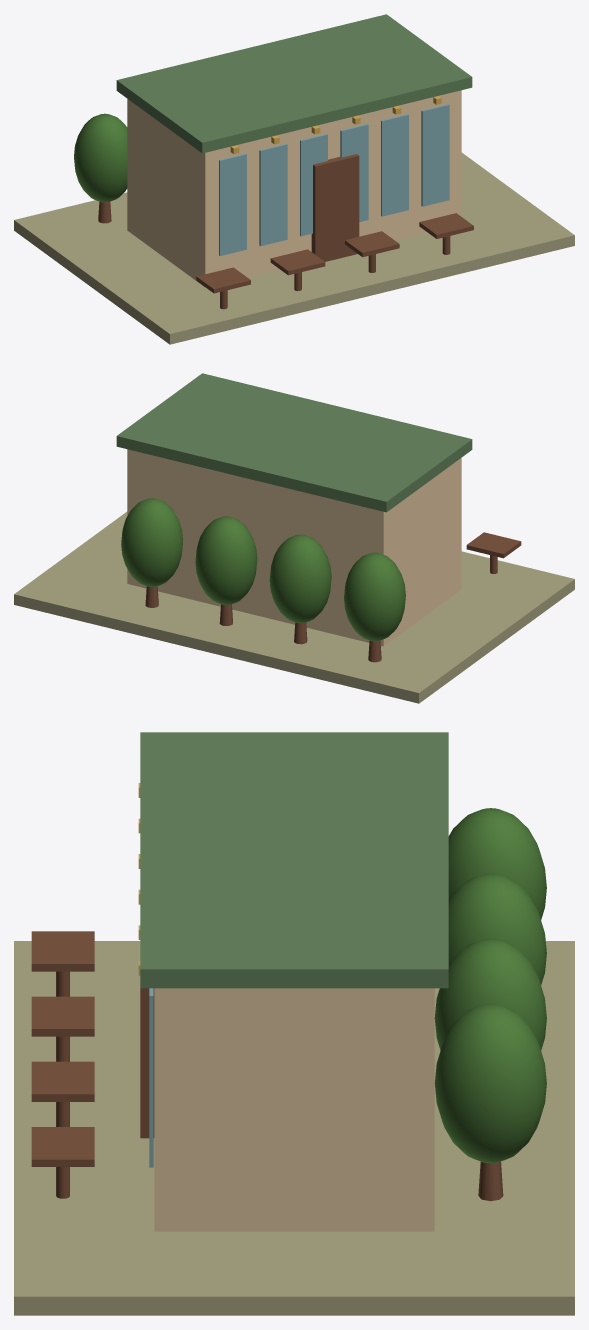
Rendered from building.glb.
The picture shows the model from 3 angles, top to bottom: view 1: azimuth 30°, elevation 25°; view 2: azimuth 150°, elevation 25°; view 3: azimuth 270°, elevation 25°; orthographic projection. The views are drawn at different scales.
Bounding box in the file's own units: 6 × 2.26 × 4.
